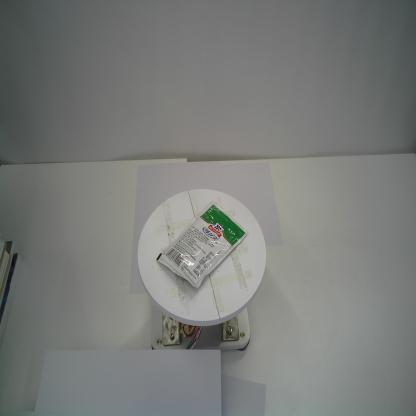Seasoner: (156, 199, 249, 288)
